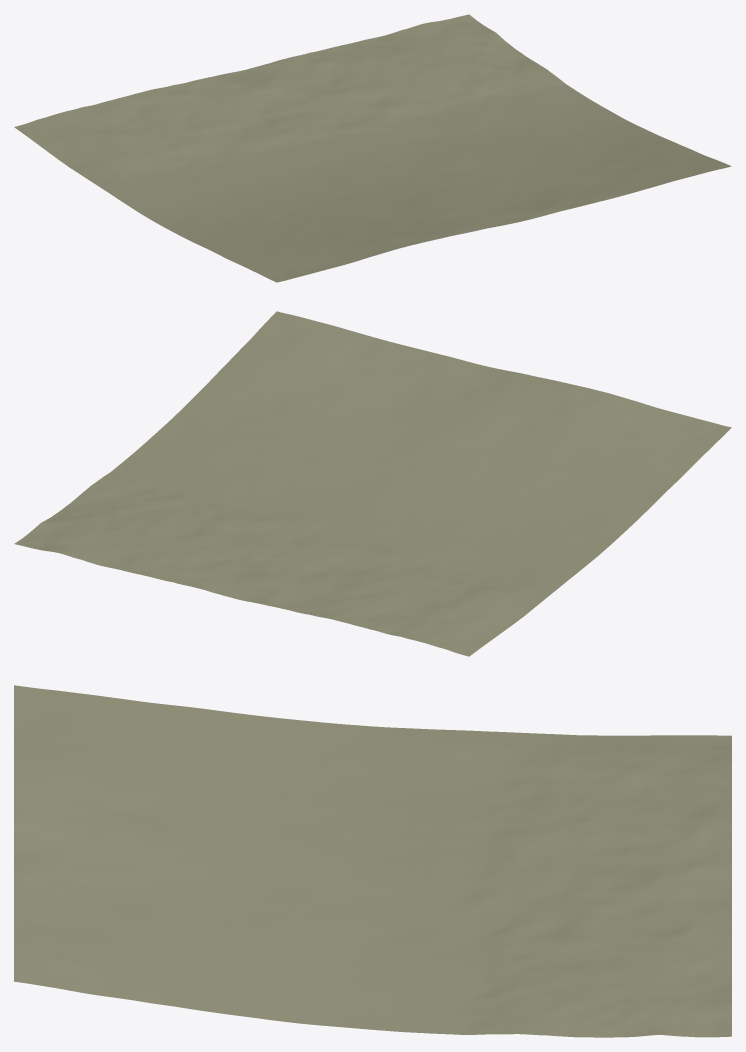
The model's file is SM_VB_Terrain_3_2.fbx.
The picture shows the model from 3 angles, top to bottom: view 1: azimuth 30°, elevation 25°; view 2: azimuth 150°, elevation 25°; view 3: azimuth 270°, elevation 25°; orthographic projection. The views are drawn at different scales.
Parts seen in each view (by area): view 1: SM_VB_Terrain_3_2; view 2: SM_VB_Terrain_3_2; view 3: SM_VB_Terrain_3_2.
Part boxes in pixels (x1=…): SM_VB_Terrain_3_2: x1=14, y1=14, x2=731, y2=282; SM_VB_Terrain_3_2: x1=14, y1=311, x2=731, y2=656; SM_VB_Terrain_3_2: x1=14, y1=685, x2=731, y2=1037.
Size of the model in its own units: 400 by 35.42 by 400.
